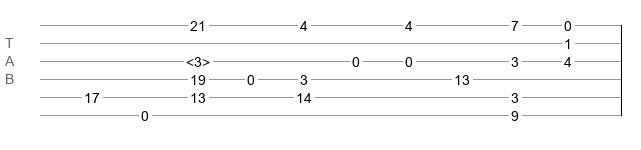0: (141, 108, 149, 118), (247, 72, 255, 82), (352, 54, 360, 64), (405, 54, 413, 64), (564, 18, 572, 28)
1: (564, 36, 572, 46)
13: (190, 90, 206, 100), (454, 72, 470, 82)
14: (296, 90, 312, 100)
17: (84, 90, 100, 100)
19: (190, 72, 206, 82)
21: (190, 18, 206, 28)
3: (300, 72, 308, 82), (511, 54, 519, 64), (511, 90, 519, 100)
4: (300, 18, 308, 28), (405, 18, 413, 28), (564, 54, 572, 64)
7: (511, 18, 519, 28)
9: (511, 108, 519, 118)
harmonic: (186, 54, 210, 64)
